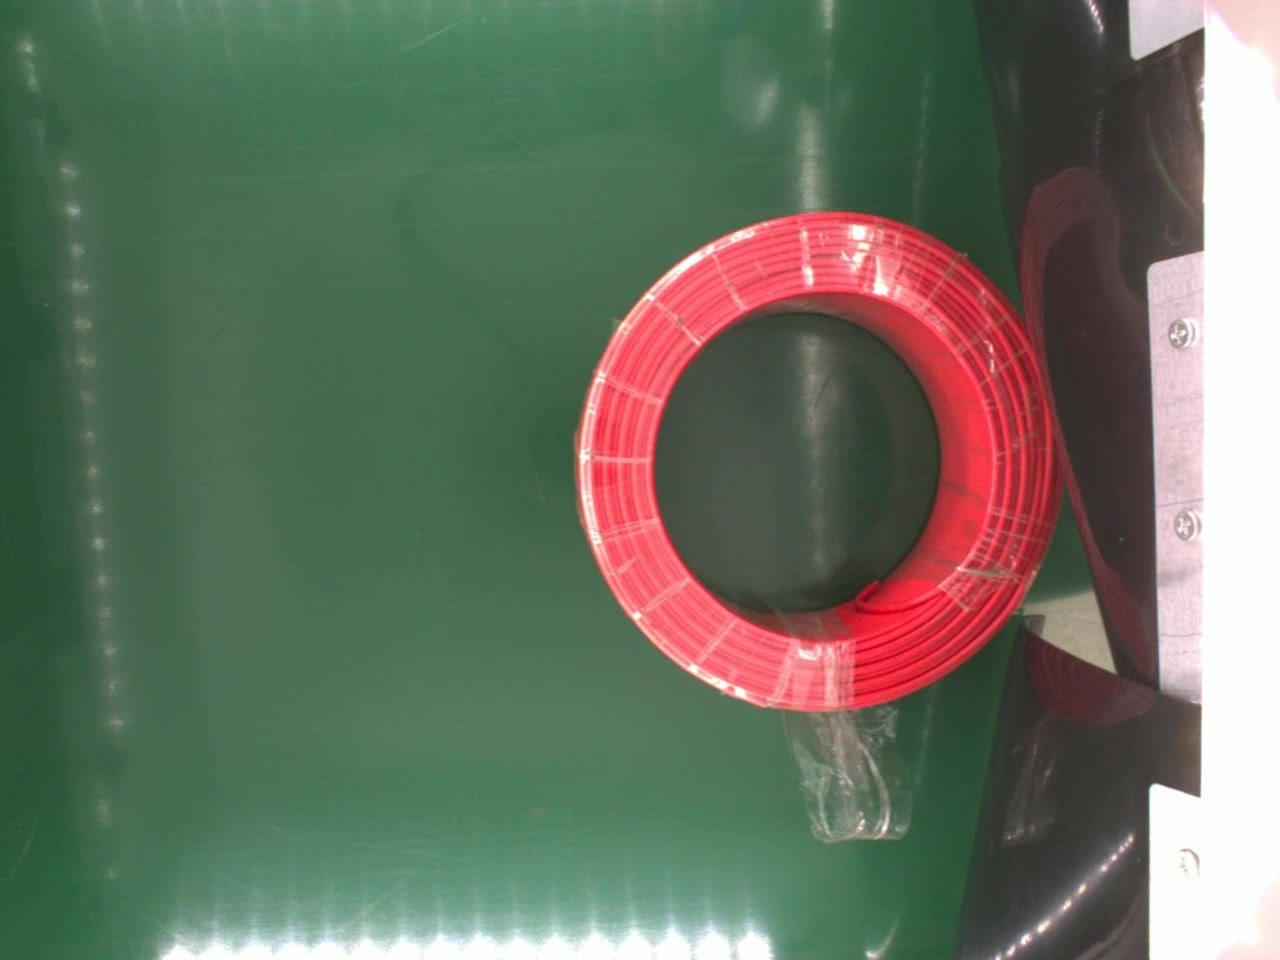red: (568, 208, 1067, 714)
